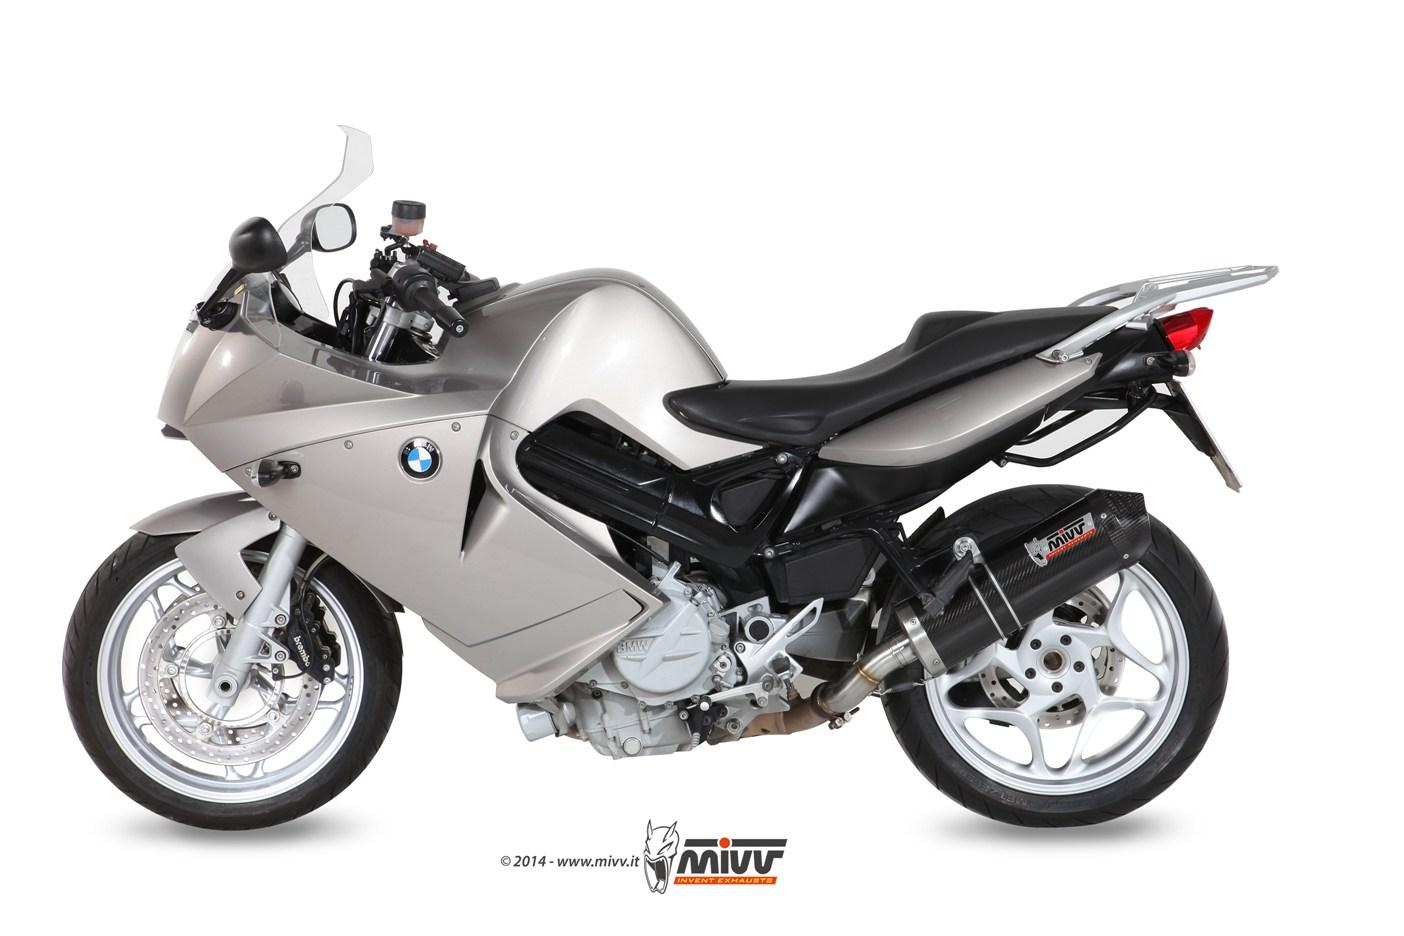engine-chasis: (515, 412, 824, 760)
exhaust: (739, 487, 1152, 739)
frontside: (128, 122, 769, 706)
handlebar: (272, 200, 500, 364), (194, 215, 288, 331), (312, 203, 357, 254)
motorbike: (62, 125, 1279, 829)
rearside: (753, 264, 1280, 661)
seat: (668, 306, 1119, 447)
tank: (451, 266, 729, 382)
watermark: (493, 816, 797, 898)
wheel: (880, 512, 1231, 828), (62, 531, 404, 832), (913, 484, 1096, 558), (281, 551, 331, 680)
